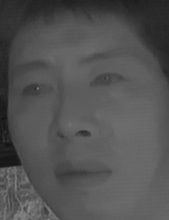eye: (88, 70, 125, 92), (20, 80, 56, 99)
mouth: (52, 153, 112, 193)
